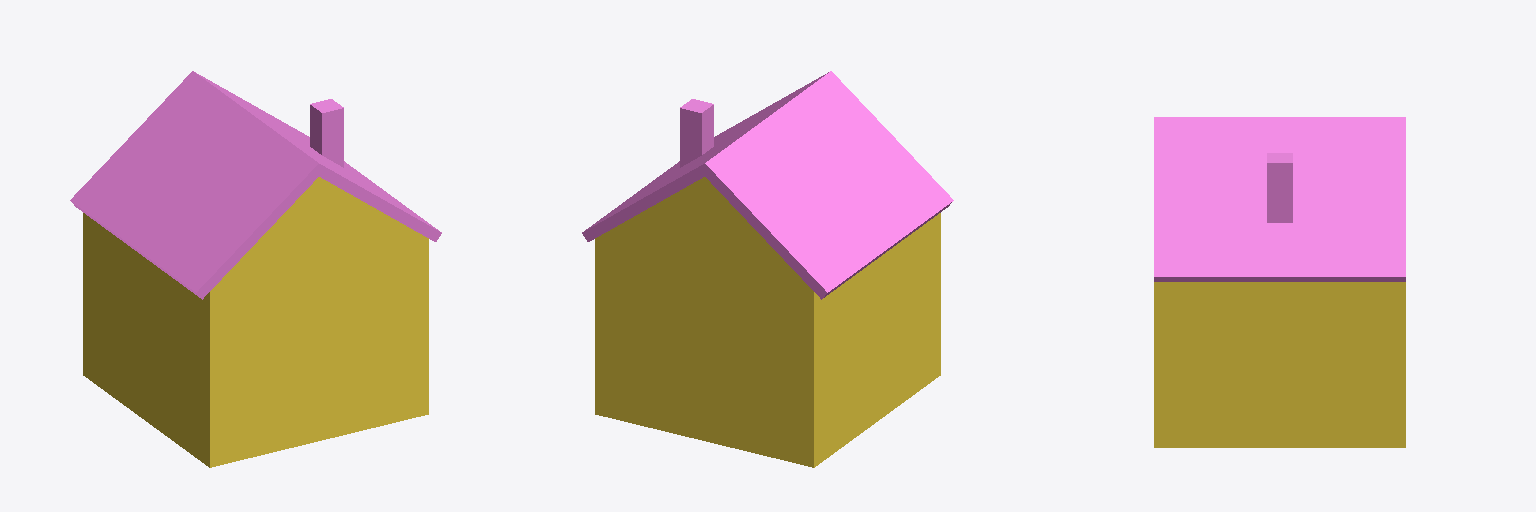
Rendered from house2.obj.
3 renders of one model, left to right at view 1: azimuth 30°, elevation 25°; view 2: azimuth 150°, elevation 25°; view 3: azimuth 270°, elevation 25°, orthographic.
Visible parts, largest first — view 1: Cube, Cube.1, Cube.2; view 2: Cube, Cube.1, Cube.2; view 3: Cube, Cube.1, Cube.2.
Part boxes in pixels (bbox=[...]): Cube: bbox=[83, 213, 428, 467]; Cube.1: bbox=[70, 71, 441, 299]; Cube.2: bbox=[310, 99, 343, 167]; Cube: bbox=[595, 213, 940, 467]; Cube.1: bbox=[582, 71, 953, 299]; Cube.2: bbox=[680, 99, 713, 167]; Cube: bbox=[1154, 282, 1405, 447]; Cube.1: bbox=[1154, 117, 1405, 281]; Cube.2: bbox=[1267, 153, 1292, 222].
Bounding box in the file's own units: 22.47 × 24.26 × 20.